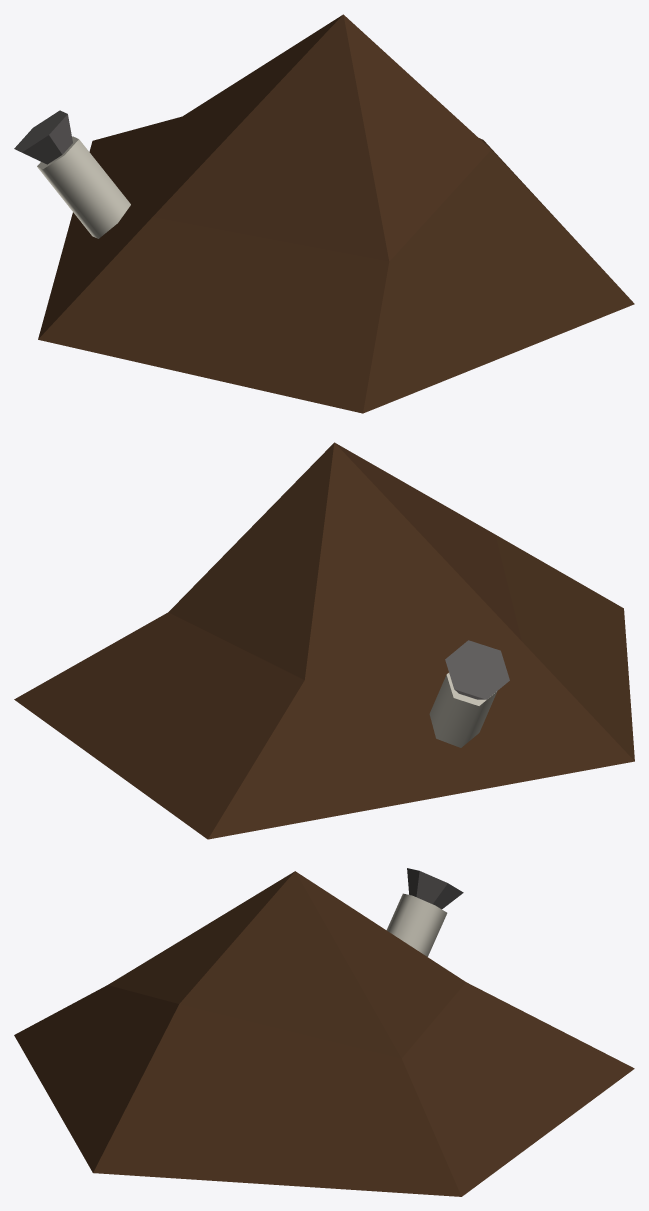
File: Mountain_03.FBX
The picture shows the model from 3 angles, top to bottom: view 1: azimuth 30°, elevation 25°; view 2: azimuth 150°, elevation 25°; view 3: azimuth 270°, elevation 25°; orthographic projection. The views are drawn at different scales.
Parts seen in each view (by area): view 1: Mountain_03; view 2: Mountain_03; view 3: Mountain_03.
Boxes of the visible parts, x1,y1,x2,y2 form: Mountain_03: (14,14,634,413); Mountain_03: (14,442,634,839); Mountain_03: (14,868,634,1196).
Bounding box in the file's own units: 92.58 × 41.13 × 103.
